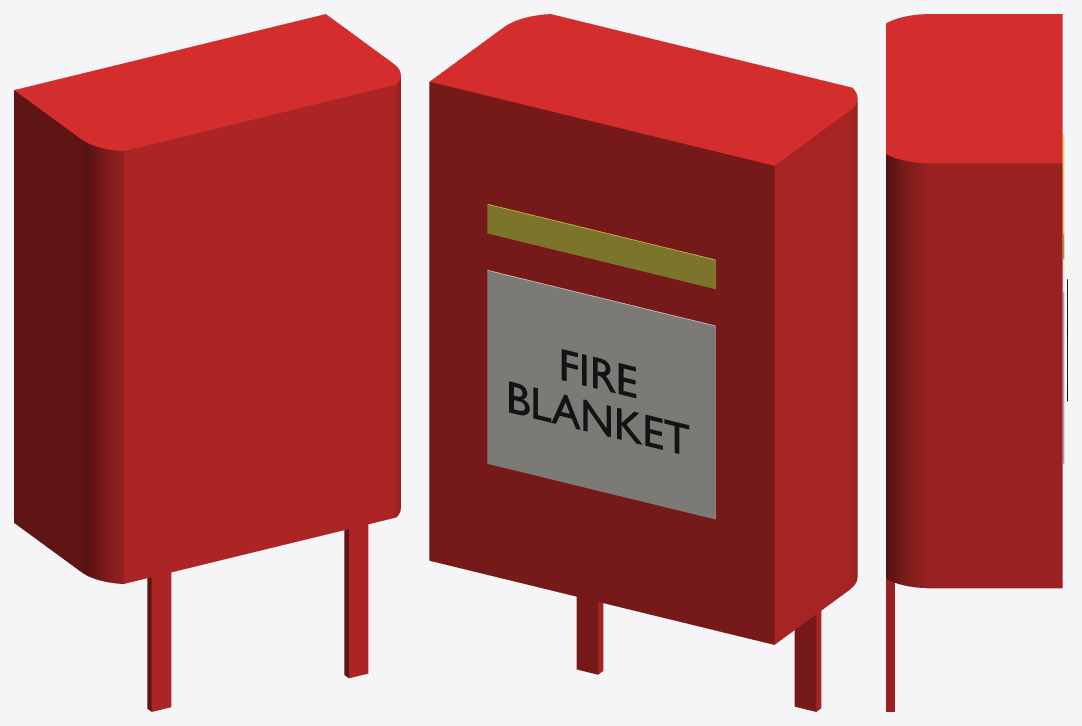
File: FireBlanket.dae
3 views of the same model, side by side, from view 1: azimuth 30°, elevation 25°; view 2: azimuth 150°, elevation 25°; view 3: azimuth 270°, elevation 25° (orthographic). The views are drawn at different scales.
Visible parts, largest first — view 1: fireBlanket_001_001.001; view 2: fireBlanket_001_001.001, fire_blanket_front_white_panel, fire_blanket_top_yellow_strip, fire_blanket_front_text; view 3: fireBlanket_001_001.001, fire_blanket_front_white_panel.
Boxes of the visible parts, x1,y1,x2,y2 form: fireBlanket_001_001.001: (14, 14, 400, 711); fireBlanket_001_001.001: (429, 14, 857, 711); fire_blanket_front_white_panel: (487, 270, 715, 519); fire_blanket_top_yellow_strip: (487, 204, 715, 288); fire_blanket_front_text: (509, 349, 689, 453); fireBlanket_001_001.001: (886, 14, 1062, 711); fire_blanket_front_white_panel: (1063, 259, 1064, 463).
Size of the model in its own units: 0.347 by 0.1785 by 0.6191.
